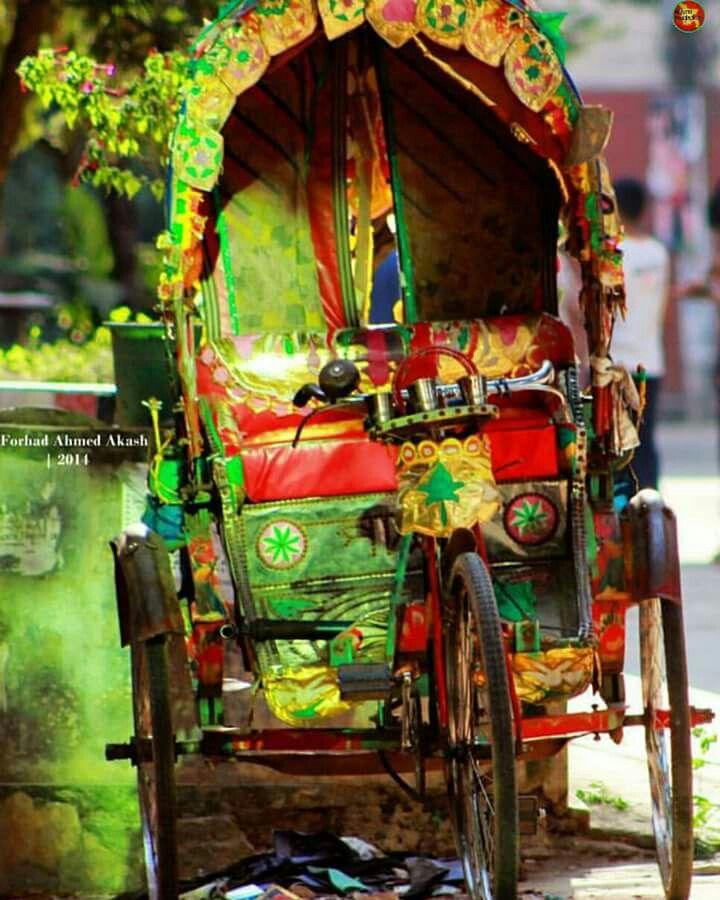Rickshaw: (69, 0, 710, 900)
